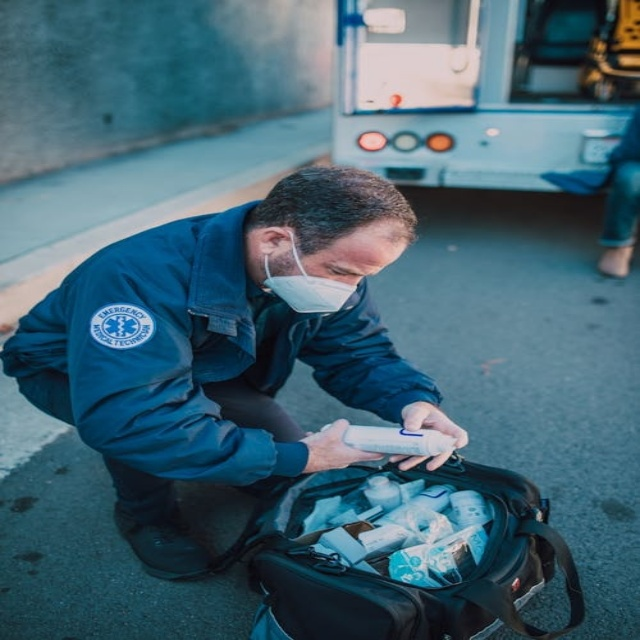Mascara: (261, 230, 360, 314)
Sin_gafas: (314, 253, 379, 287)
Sin_guantes: (394, 400, 470, 470), (297, 419, 392, 474)
